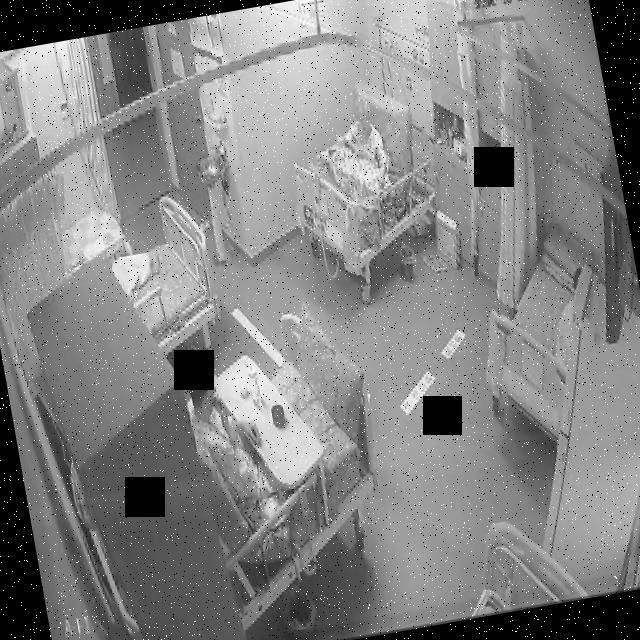bed: (175, 304, 399, 596), (269, 94, 452, 306), (463, 232, 614, 452), (101, 187, 226, 362)
patient: (174, 332, 275, 530), (338, 93, 393, 170)
sit: (174, 334, 274, 536), (338, 94, 394, 176)
